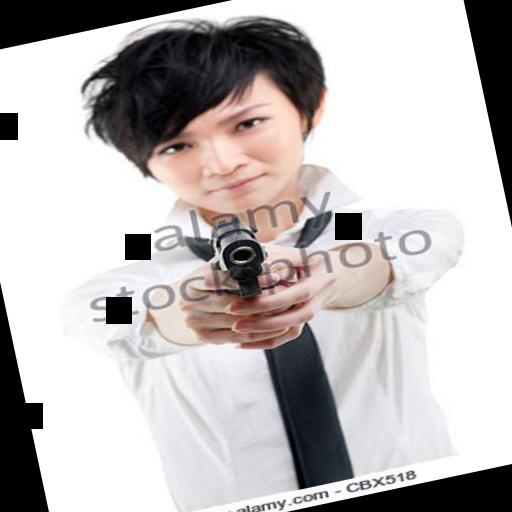Handgun: (200, 212, 280, 320)
